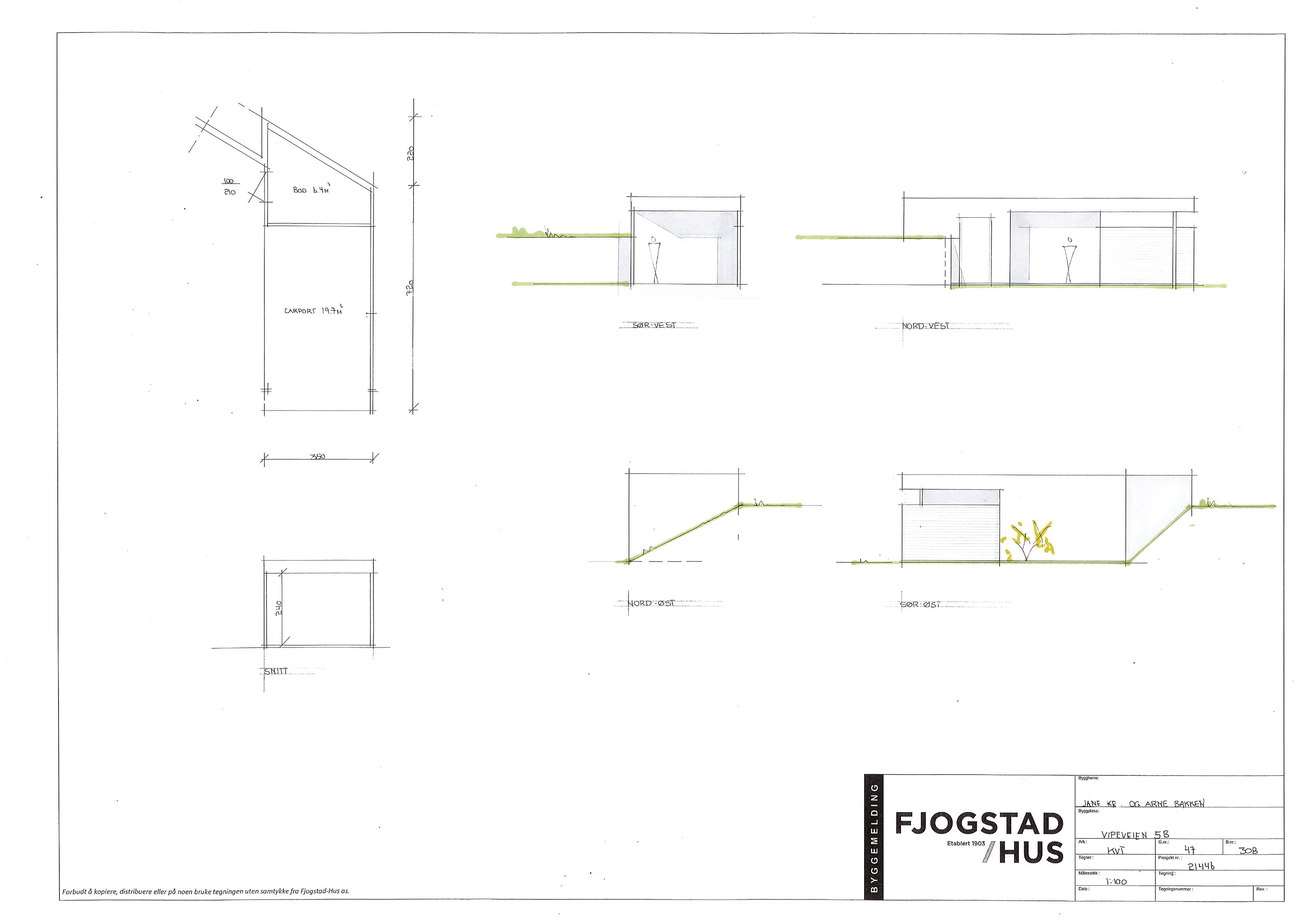fasade: (823, 192, 1201, 297), (896, 469, 1204, 571), (493, 192, 751, 294), (621, 468, 764, 568)
snitt: (191, 100, 378, 422), (259, 554, 381, 657)
